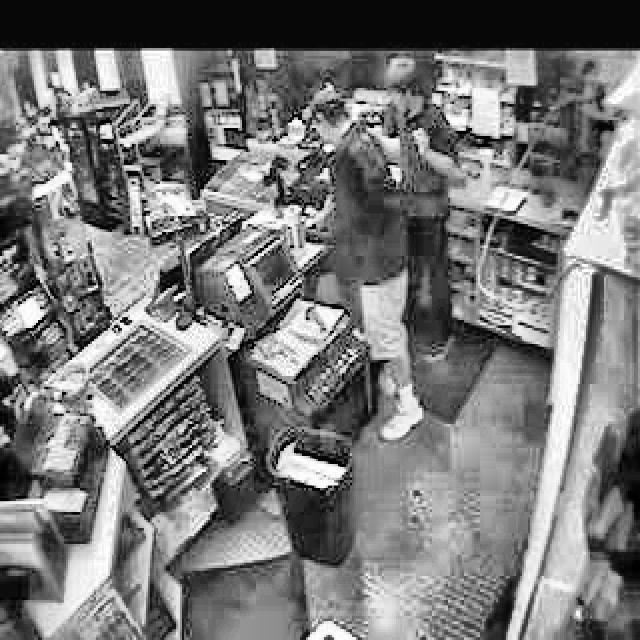Weapon: (288, 43, 518, 445)
